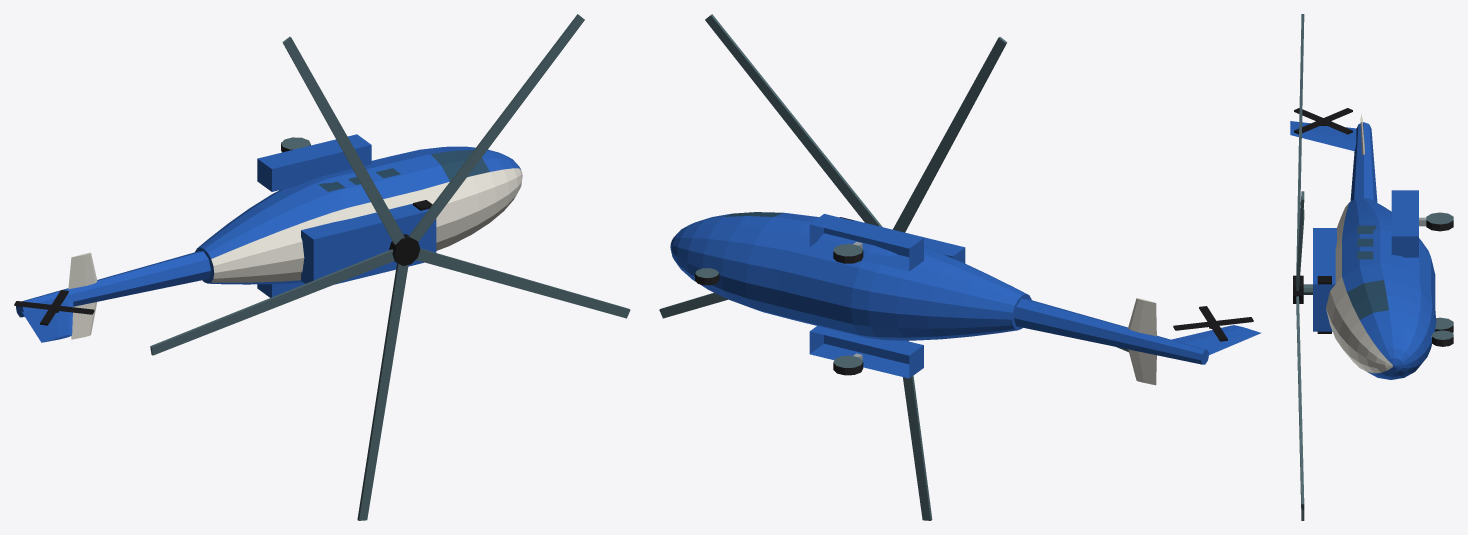
3 views of the same model, side by side, from view 1: azimuth 30°, elevation 25°; view 2: azimuth 150°, elevation 25°; view 3: azimuth 270°, elevation 25° (orthographic). The views are drawn at different scales.
Parts seen in each view (by area): view 1: default_cabin, default_engine_cowl, default_boom, default_sponson1, default_rotor_blade0, default_rotor_blade2, default_rotor_blade3, default_rotor_blade1, default_rotor_blade4, default_tail_fin1, default_stabiliser1; view 2: default_cabin, default_boom, default_sponson-1, default_sponson1, default_rotor_blade0, default_rotor_blade1, default_rotor_blade3, default_tail_fin1, default_stabiliser1, default_stabiliser-1, default_rotor_blade4; view 3: default_cabin, default_engine_cowl, default_sponson1, default_boom, default_tail_fin1, default_rotor_blade1, default_rotor_blade4, default_main1_wheel0.0, default_windows1, default_rotor_blade0, default_tail_blade0, default_tail_blade1 (+3 smaller).
Part boxes in pixels (x1,y1,x2,y2): default_cabin: (195,146,522,284); default_engine_cowl: (301,203,436,284); default_boom: (16,251,210,317); default_sponson1: (257,134,371,191); default_rotor_blade0: (409,14,584,241); default_rotor_blade2: (150,249,394,355); default_rotor_blade3: (357,263,408,520); default_rotor_blade1: (282,36,404,244); default_rotor_blade4: (416,248,630,318); default_tail_fin1: (21,300,73,342); default_stabiliser1: (68,252,97,289); default_cabin: (670,212,1031,340); default_boom: (1014,298,1208,364); default_sponson-1: (809,326,923,378); default_sponson1: (809,214,923,271); default_rotor_blade0: (705,14,882,226); default_rotor_blade1: (893,37,1007,232); default_rotor_blade3: (903,340,932,520); default_tail_fin1: (1171,325,1260,355); default_stabiliser1: (1128,298,1156,336); default_stabiliser-1: (1128,349,1156,385); default_rotor_blade4: (659,292,727,318); default_cabin: (1326,198,1436,379); default_engine_cowl: (1313,228,1336,331); default_sponson1: (1391,190,1418,257); default_boom: (1350,122,1377,202); default_tail_fin1: (1290,121,1356,151); default_rotor_blade1: (1296,14,1304,274); default_rotor_blade4: (1296,296,1304,509); default_main1_wheel0.0: (1426,212,1453,231); default_windows1: (1357,225,1376,259); default_rotor_blade0: (1296,191,1304,290); default_tail_blade0: (1294,108,1352,134); default_tail_blade1: (1294,108,1352,134).
Bounding box in the file's own units: 13.61 × 10.96 × 3.44.
